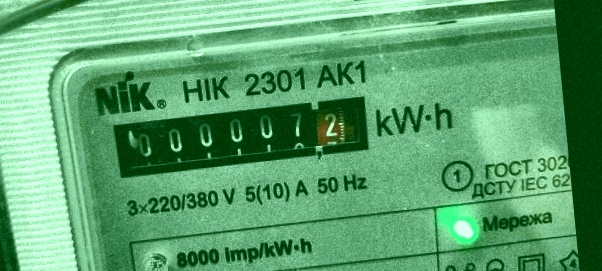0: (165, 124, 185, 154), (195, 120, 216, 148), (135, 129, 154, 158), (256, 111, 275, 140), (227, 115, 244, 143)
2: (322, 109, 340, 139)
7: (286, 109, 305, 139)
screen: (104, 86, 382, 184)
